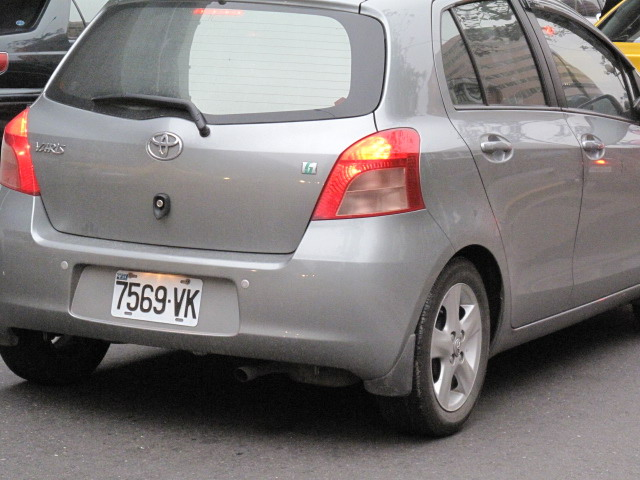plate: (112, 266, 204, 328)
